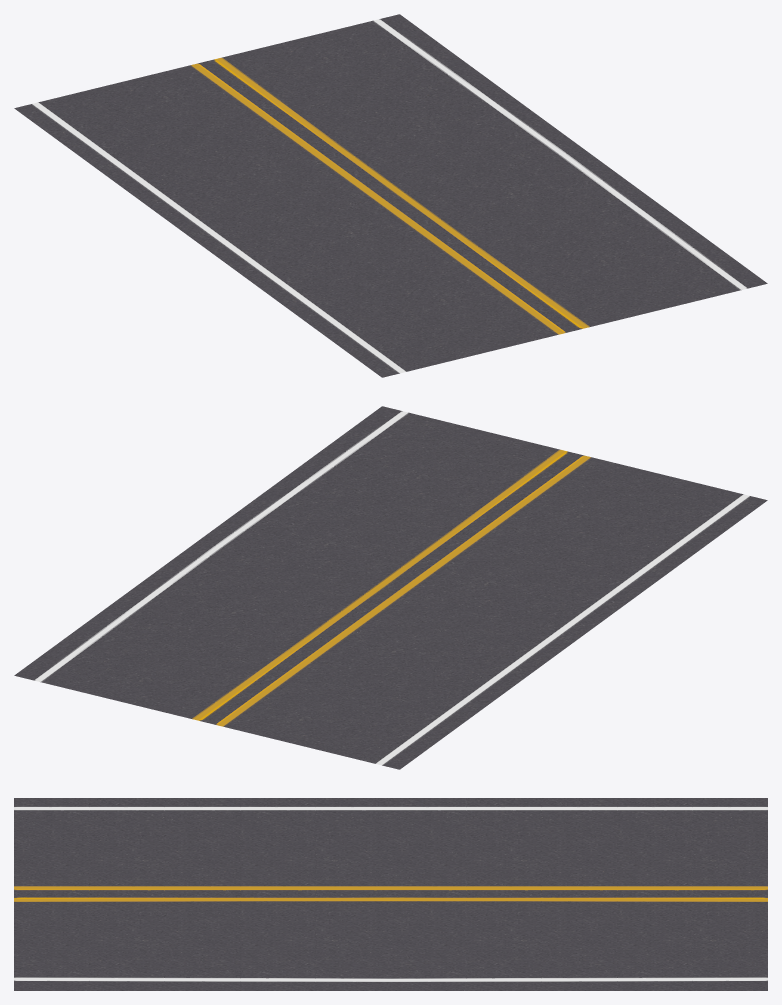
Rendered from street.fbx.
3 views of the same model, one above another, from view 1: azimuth 30°, elevation 25°; view 2: azimuth 150°, elevation 25°; view 3: azimuth 270°, elevation 25° (orthographic). The views are drawn at different scales.
Parts seen in each view (by area): view 1: street; view 2: street; view 3: street.
Boxes of the visible parts, x1,y1,x2,y2 form: street: [14, 14, 767, 377]; street: [14, 406, 767, 769]; street: [14, 798, 767, 990].
Size of the model in its own units: 1553 by 0 by 2567.
Materials: 1 (1 with a texture image).
